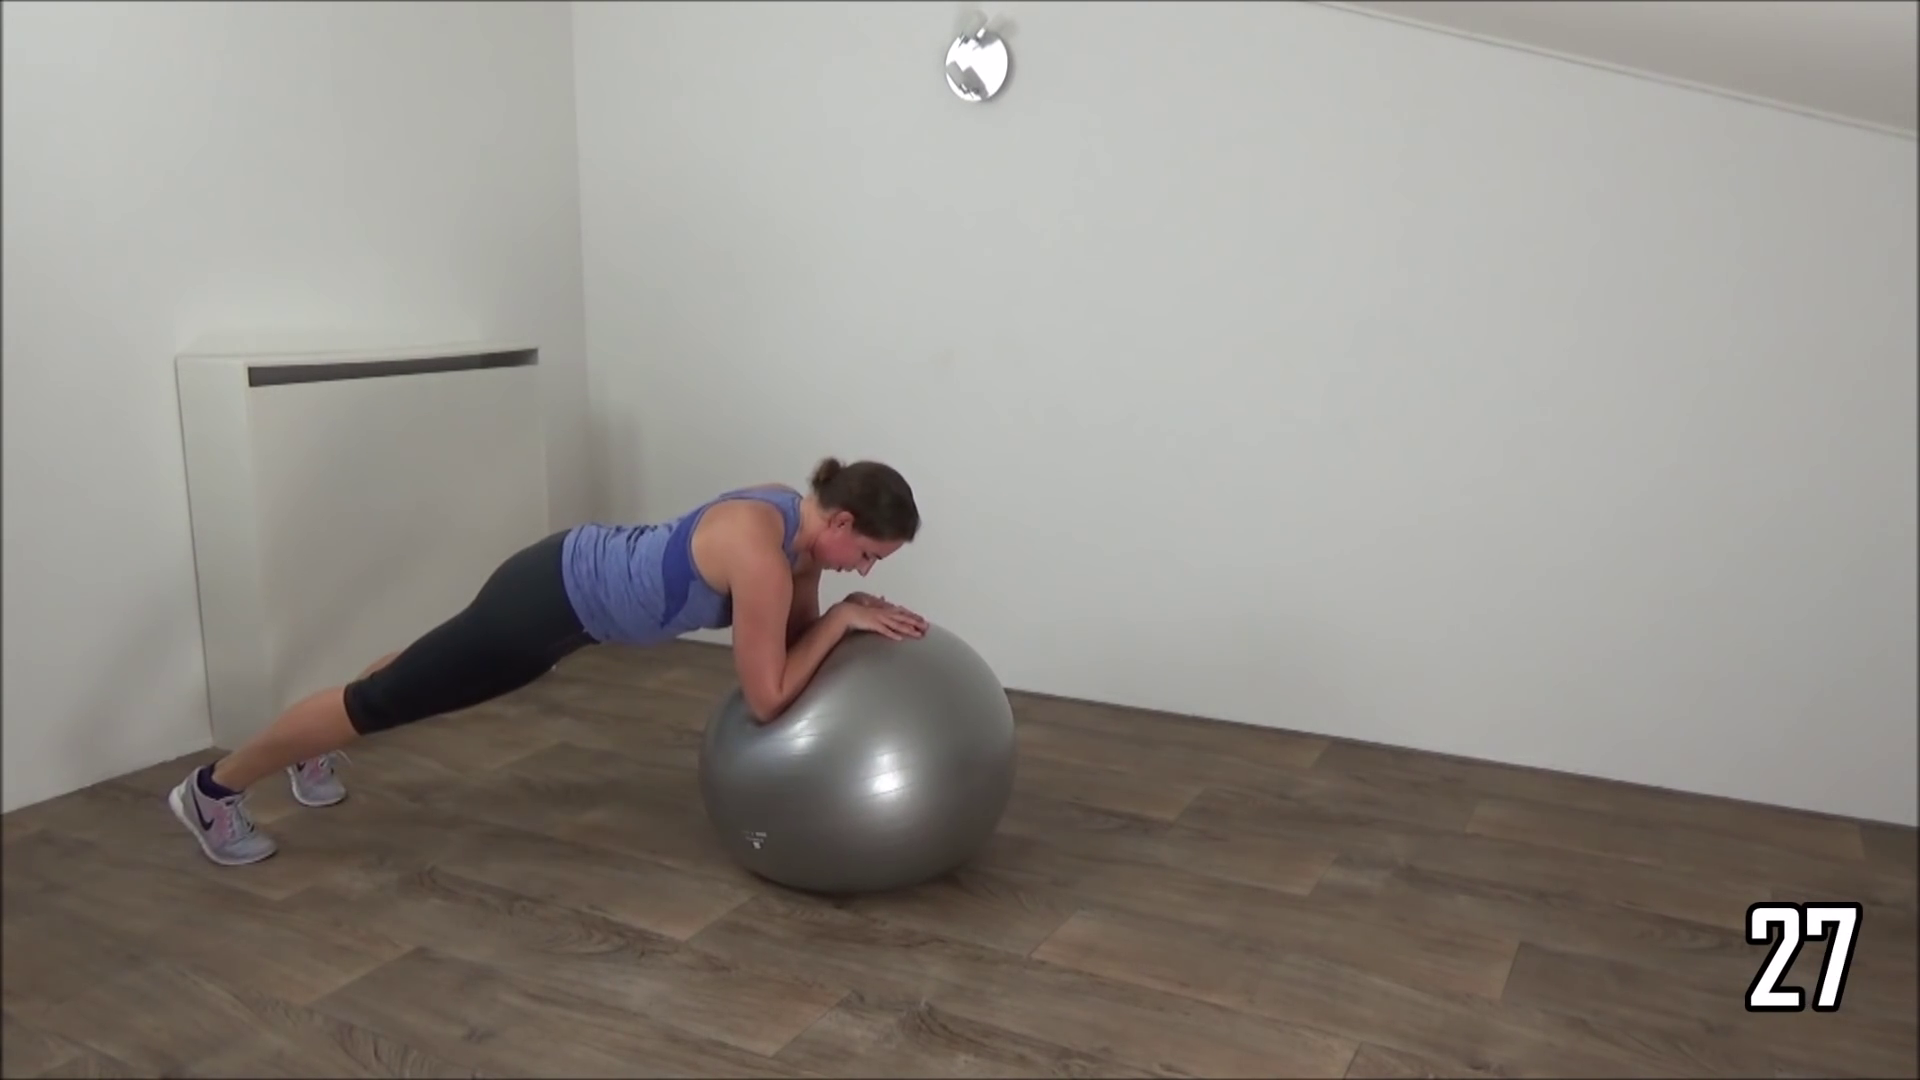yogaball: (688, 605, 1027, 903)
